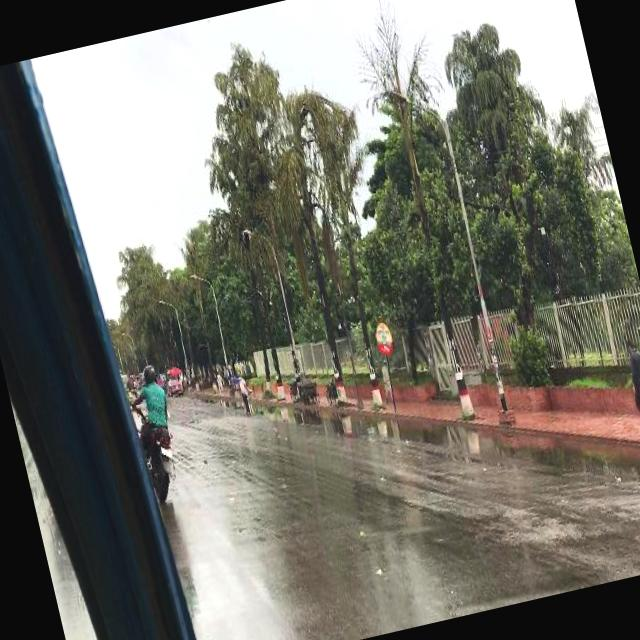car: (164, 376, 184, 397)
motorcycle: (128, 394, 190, 506), (120, 372, 134, 402)
